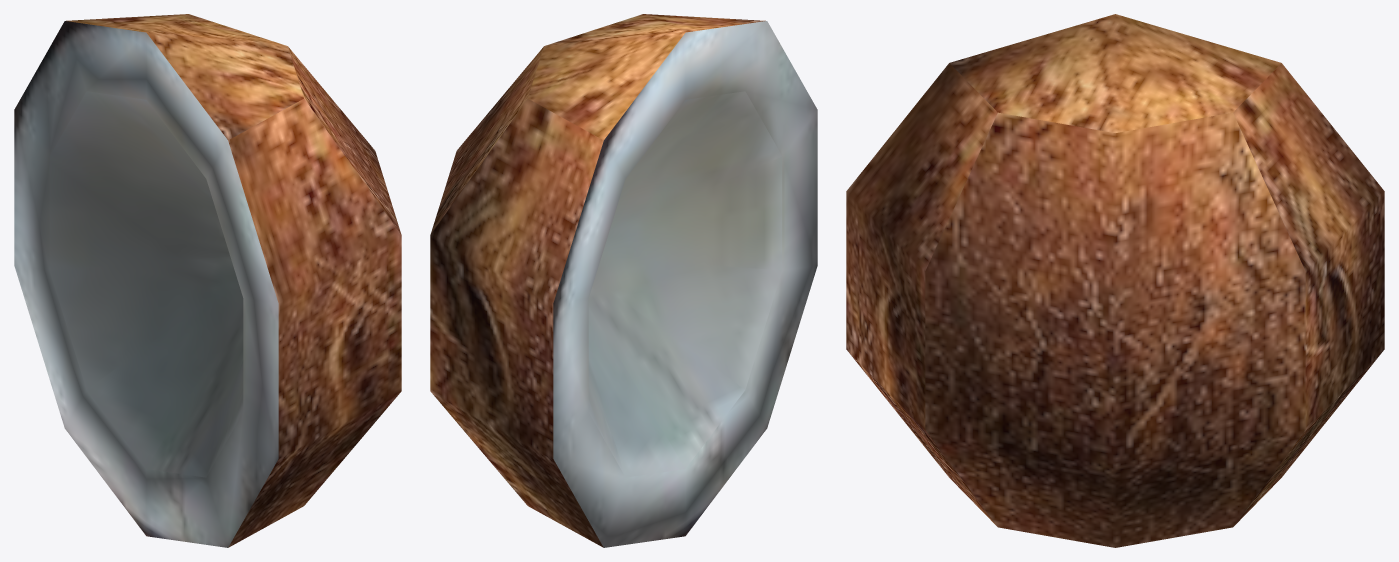
Rendered from Coconut_03.glb.
3 views of the same model, side by side, from view 1: azimuth 30°, elevation 25°; view 2: azimuth 150°, elevation 25°; view 3: azimuth 270°, elevation 25° (orthographic).
Visible parts, largest first — view 1: Coconut_03; view 2: Coconut_03; view 3: Coconut_03.
Part boxes in pixels (x1,y1,x2,y2): Coconut_03: (14,14,401,547); Coconut_03: (430,14,817,547); Coconut_03: (846,14,1384,547).
Size of the model in its own units: 0.1035 by 0.2176 by 0.207.
Materials: 1 (1 with a texture image).
